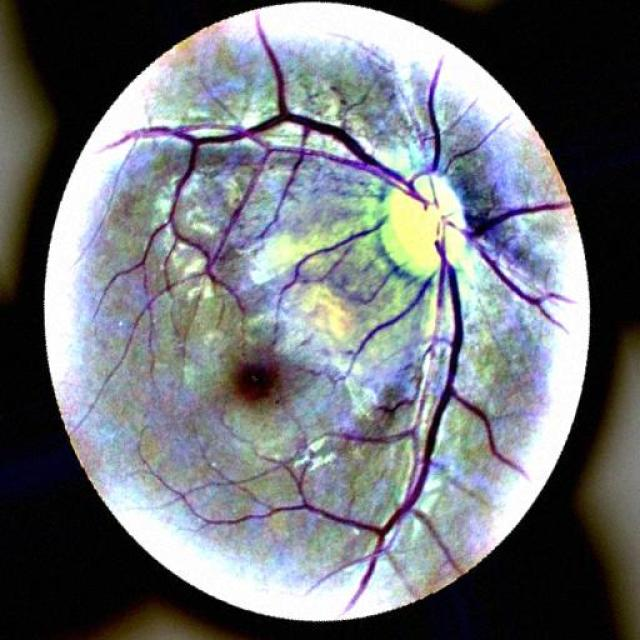Macula: (210, 352, 289, 412)
Nerves: (160, 38, 409, 180), (386, 284, 471, 531), (420, 77, 454, 149), (493, 200, 556, 231)
Optic Disk: (365, 159, 478, 283)
